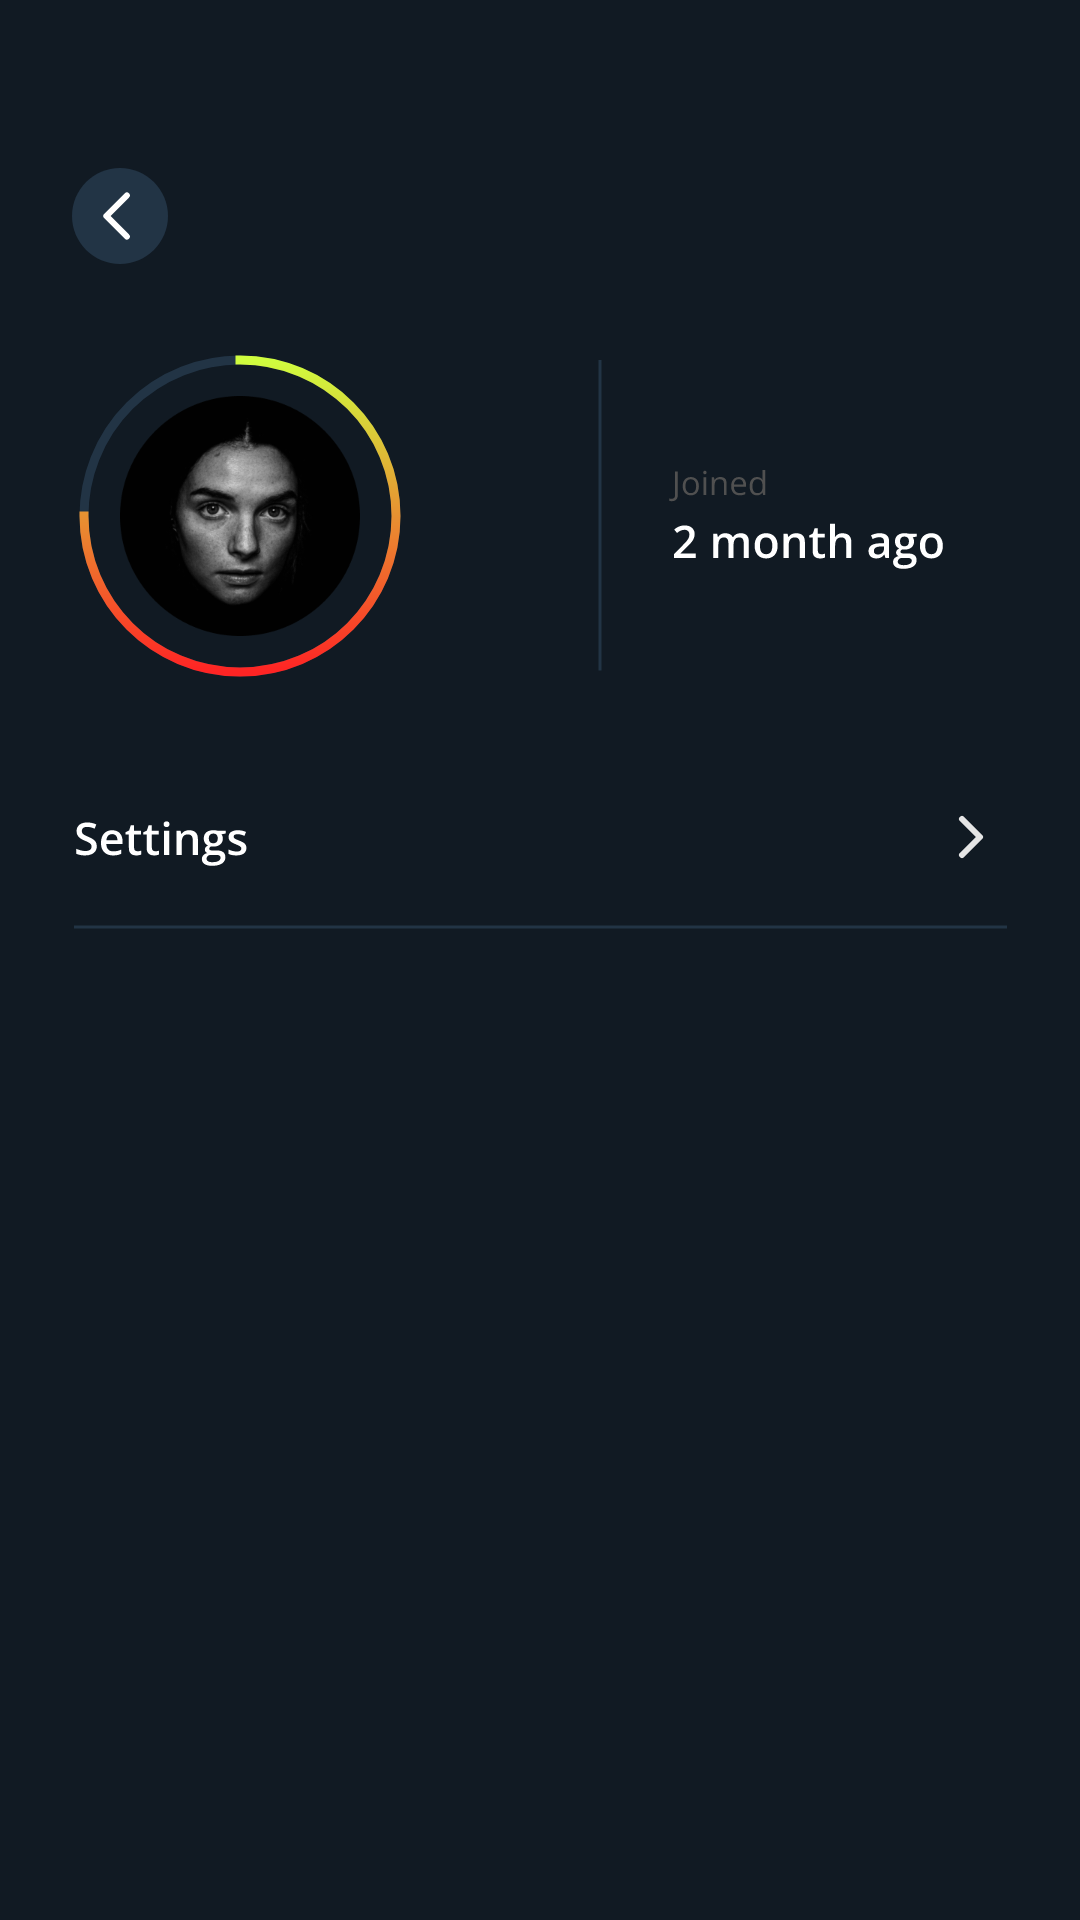

Icon click points for this 1080 × 1920 phone screenshot, format point (x, y):
profile: point (240, 516)
profile back: point (120, 216)
